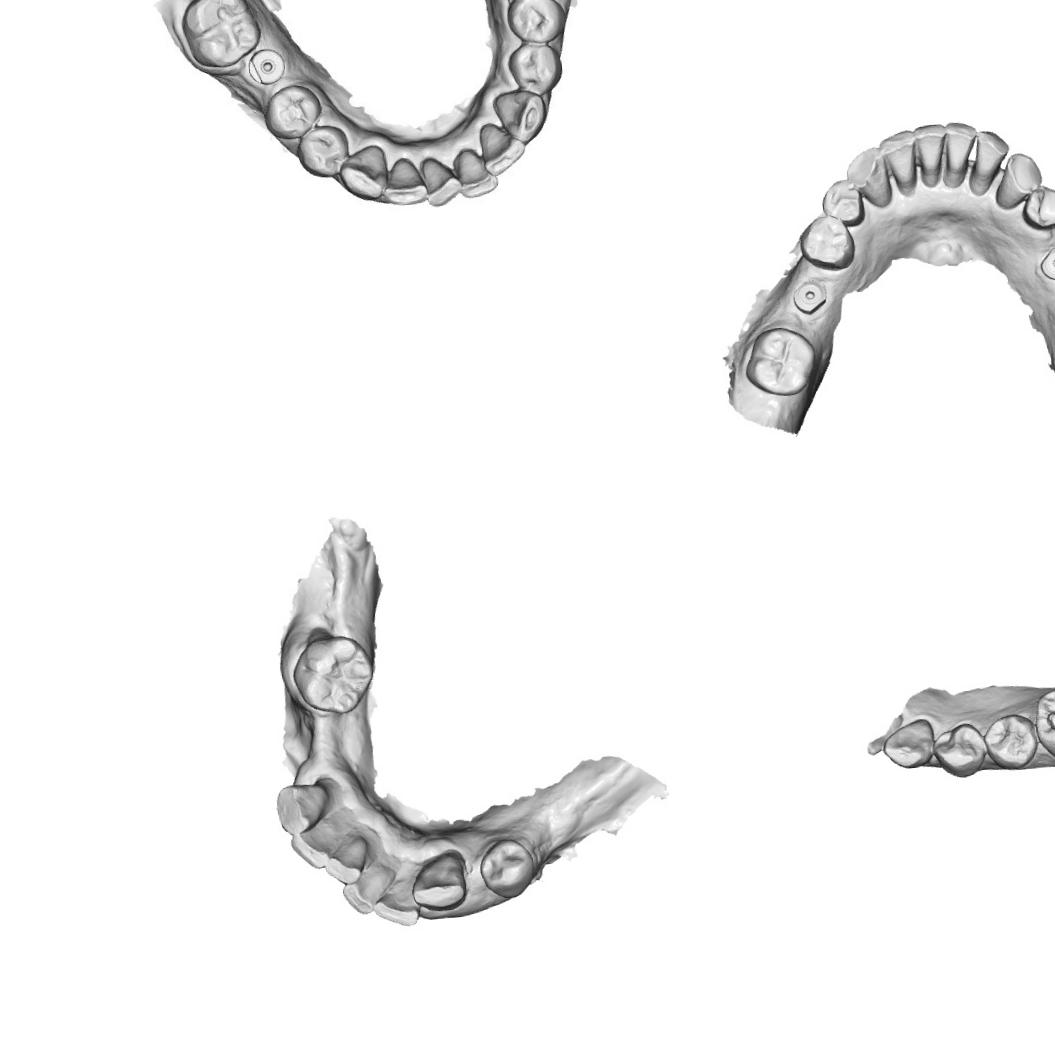canine: (407, 846, 471, 914), (272, 776, 336, 836), (334, 138, 392, 202), (840, 143, 894, 211), (990, 148, 1046, 212), (490, 85, 548, 146), (880, 715, 936, 771)
implant: (242, 44, 290, 90), (790, 276, 829, 317), (1036, 243, 1055, 281)
incisor: (475, 118, 526, 178), (339, 862, 394, 916), (368, 878, 424, 929), (320, 836, 372, 889), (876, 128, 920, 188), (418, 152, 463, 210), (288, 820, 338, 872), (453, 144, 498, 200), (937, 118, 980, 176), (968, 126, 1012, 182), (382, 156, 426, 208), (910, 120, 950, 176)
inlay: (1042, 684, 1055, 741)
molar: (286, 630, 378, 720), (738, 322, 820, 401), (177, 0, 266, 72)
premolar: (474, 834, 538, 902), (794, 210, 860, 274), (260, 81, 324, 144), (929, 718, 989, 781), (981, 710, 1040, 773), (504, 36, 562, 98), (295, 120, 350, 180), (504, 0, 567, 47), (818, 177, 867, 229), (1019, 180, 1055, 233)
